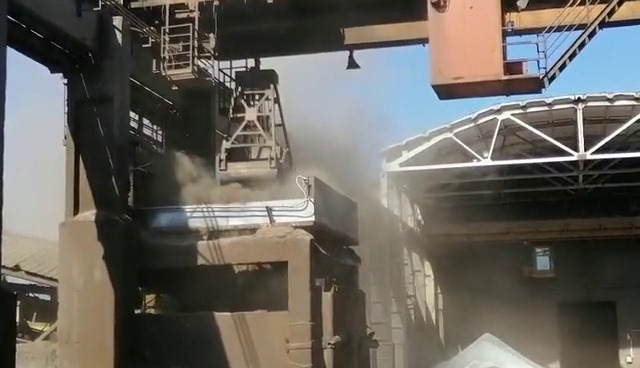dust: (170, 53, 563, 366)
grab: (215, 62, 295, 184)
